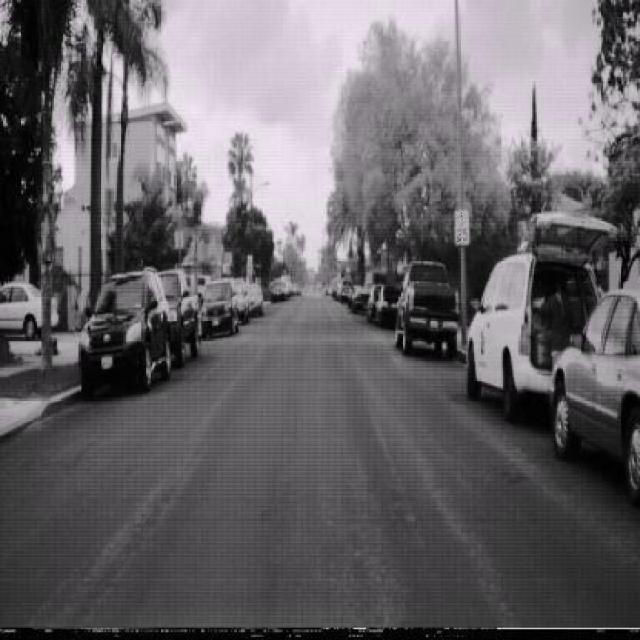speedLimit25: (452, 208, 470, 246)
